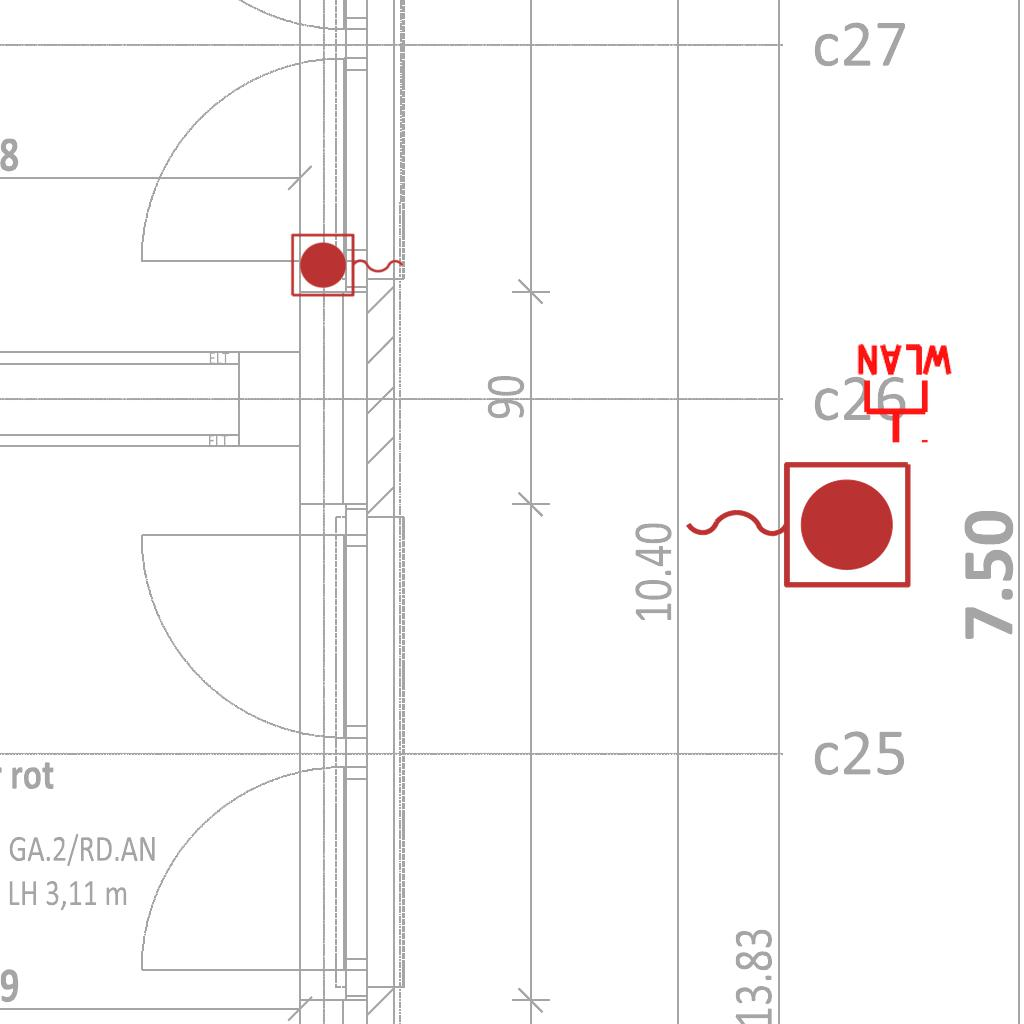WLAN: (853, 342, 957, 447)
Zugtaster: (675, 451, 919, 595), (287, 230, 409, 302)
